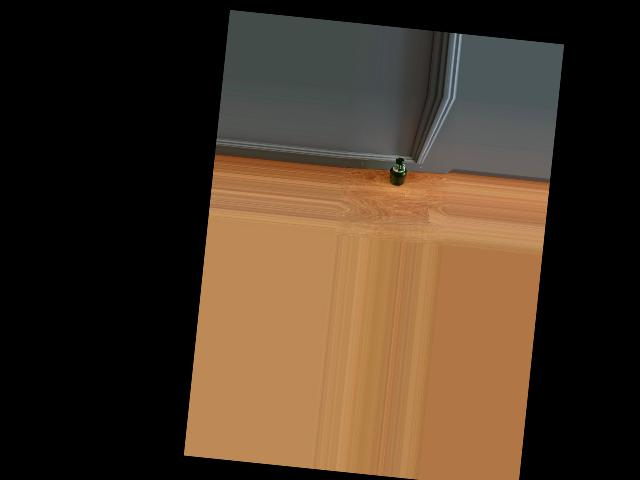beer: (388, 157, 408, 186)
